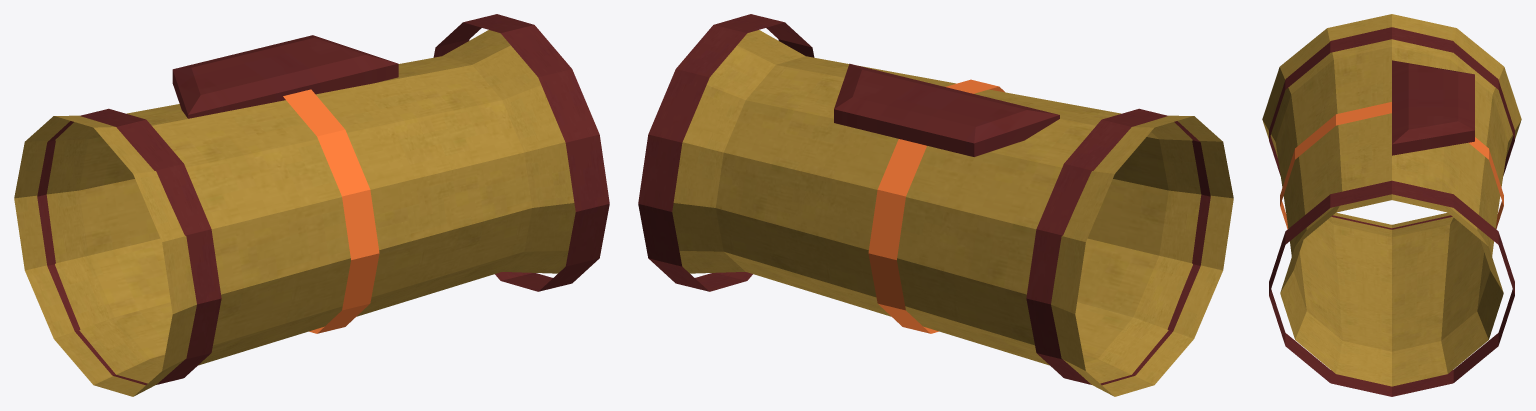
The model's file is eq_past_3_arm.glb.
3 views of the same model, side by side, from view 1: azimuth 30°, elevation 25°; view 2: azimuth 150°, elevation 25°; view 3: azimuth 270°, elevation 25° (orthographic). The views are drawn at different scales.
Parts seen in each view (by area): view 1: eq_past_3_arm; view 2: eq_past_3_arm; view 3: eq_past_3_arm.
Part boxes in pixels (bbox=[...]): eq_past_3_arm: bbox=[14, 14, 609, 396]; eq_past_3_arm: bbox=[638, 14, 1233, 396]; eq_past_3_arm: bbox=[1262, 14, 1521, 396].
Size of the model in its own units: 0.2516 by 0.1404 by 0.1566.
Materials: 3 (3 with a texture image).
